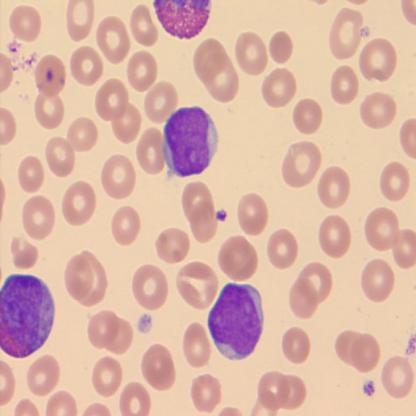Blast: (206, 280, 265, 363), (161, 103, 220, 179)
